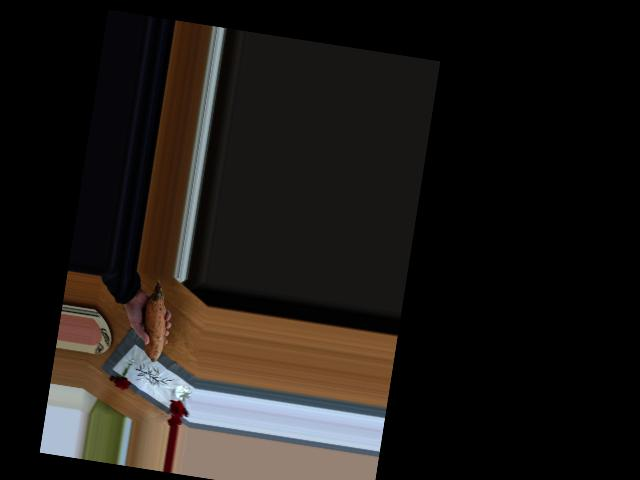sweet_potato: (130, 284, 175, 365)
